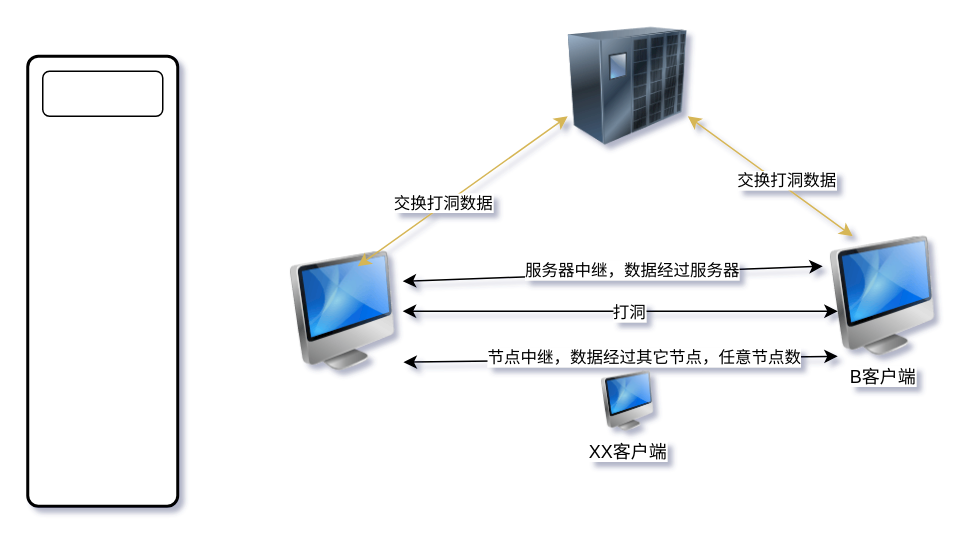
This 977x542 diagram has some shape labels left out. Each missing label, with the centre of its shape:
"A客户端" goes at point 342,310.
"服务器" goes at point 627,86.
